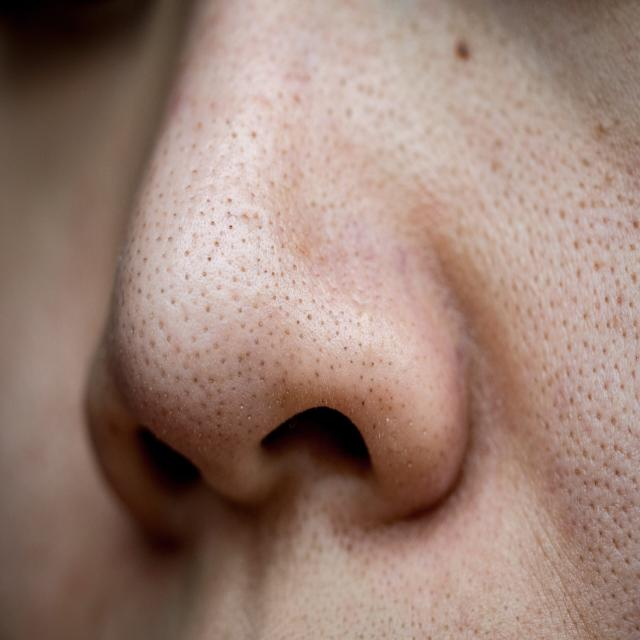blackhead: (114, 26, 457, 491)
